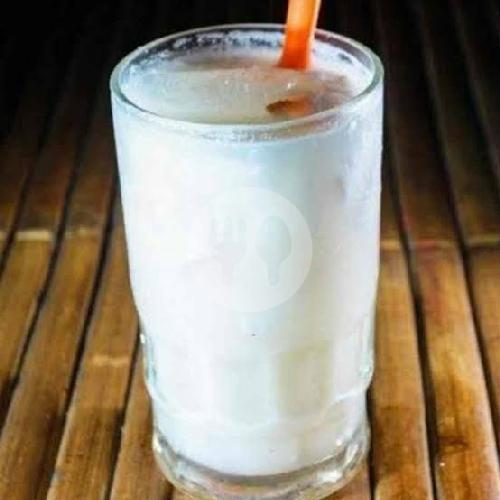produk_susu: (145, 53, 360, 442)
